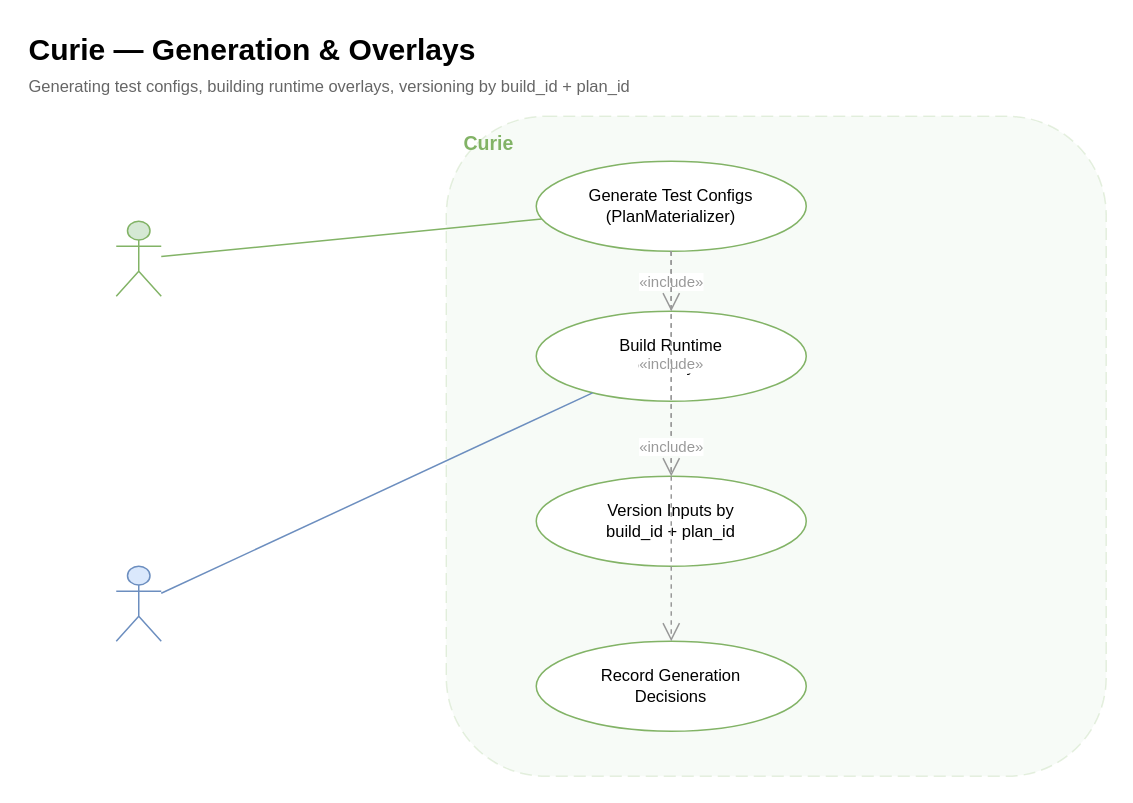
Image size: 1133x803. Some labels were removed from this diagram. The centre of each missing label's shape, as x and y in pixels:
Fuze Test (Suite Defs): point 138,603
Galileo Test Planner: point 138,258
